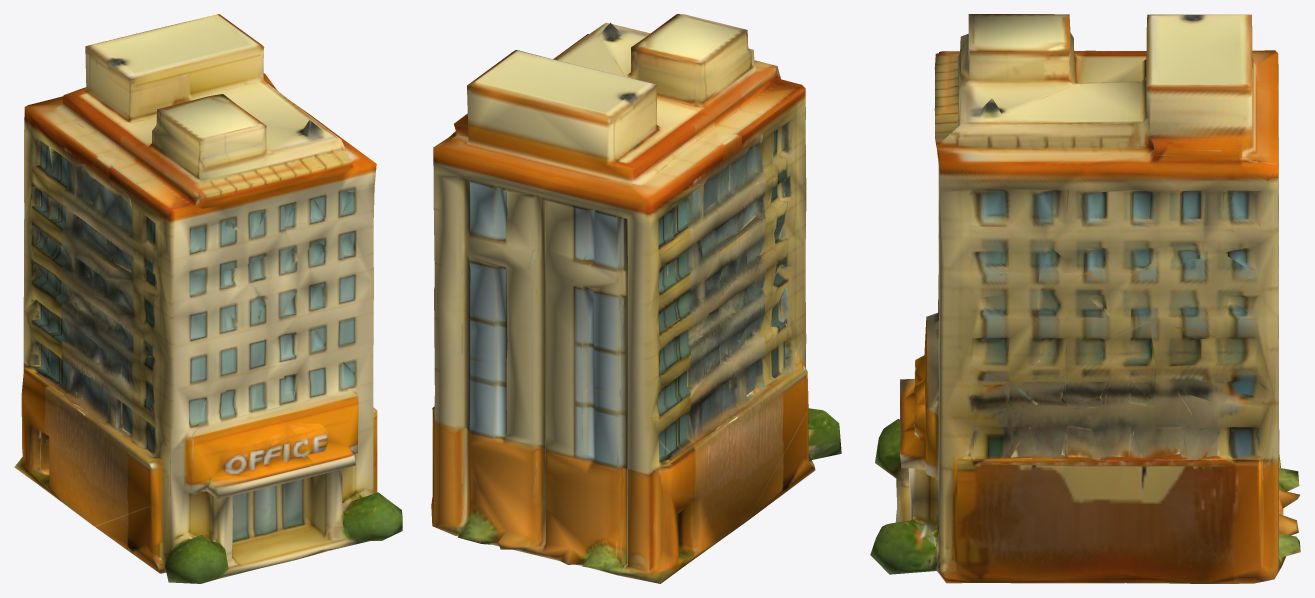
Rendered from building office tall2fbx.fbx.
3 renders of one model, left to right at view 1: azimuth 30°, elevation 25°; view 2: azimuth 150°, elevation 25°; view 3: azimuth 270°, elevation 25°, orthographic. The views are drawn at different scales.
Visible parts, largest first — view 1: building office tall2; view 2: building office tall2; view 3: building office tall2.
Part boxes in pixels (x1,y1,x2,y2): building office tall2: (14, 14, 402, 583); building office tall2: (431, 14, 841, 583); building office tall2: (870, 14, 1300, 583).
Size of the model in its own units: 283 by 480 by 390.
